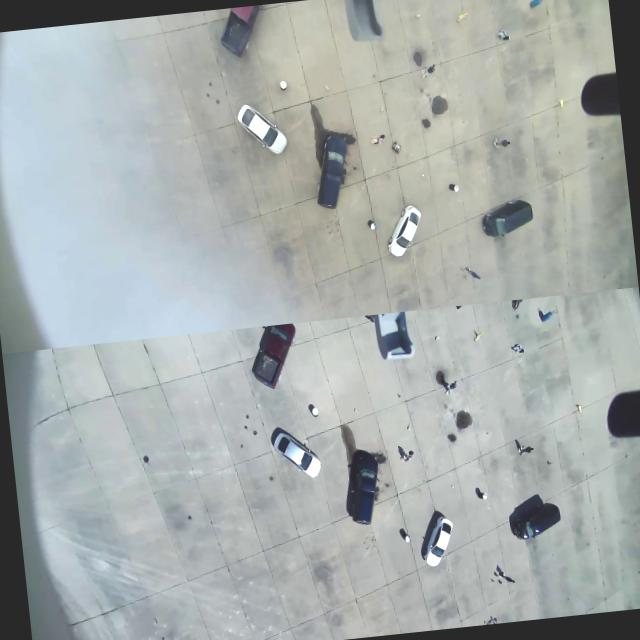car: (340, 439, 394, 532), (307, 116, 356, 212), (246, 321, 302, 390), (235, 100, 288, 156), (268, 422, 320, 479), (510, 492, 567, 544), (479, 196, 535, 238), (384, 202, 424, 257), (417, 512, 456, 568)
